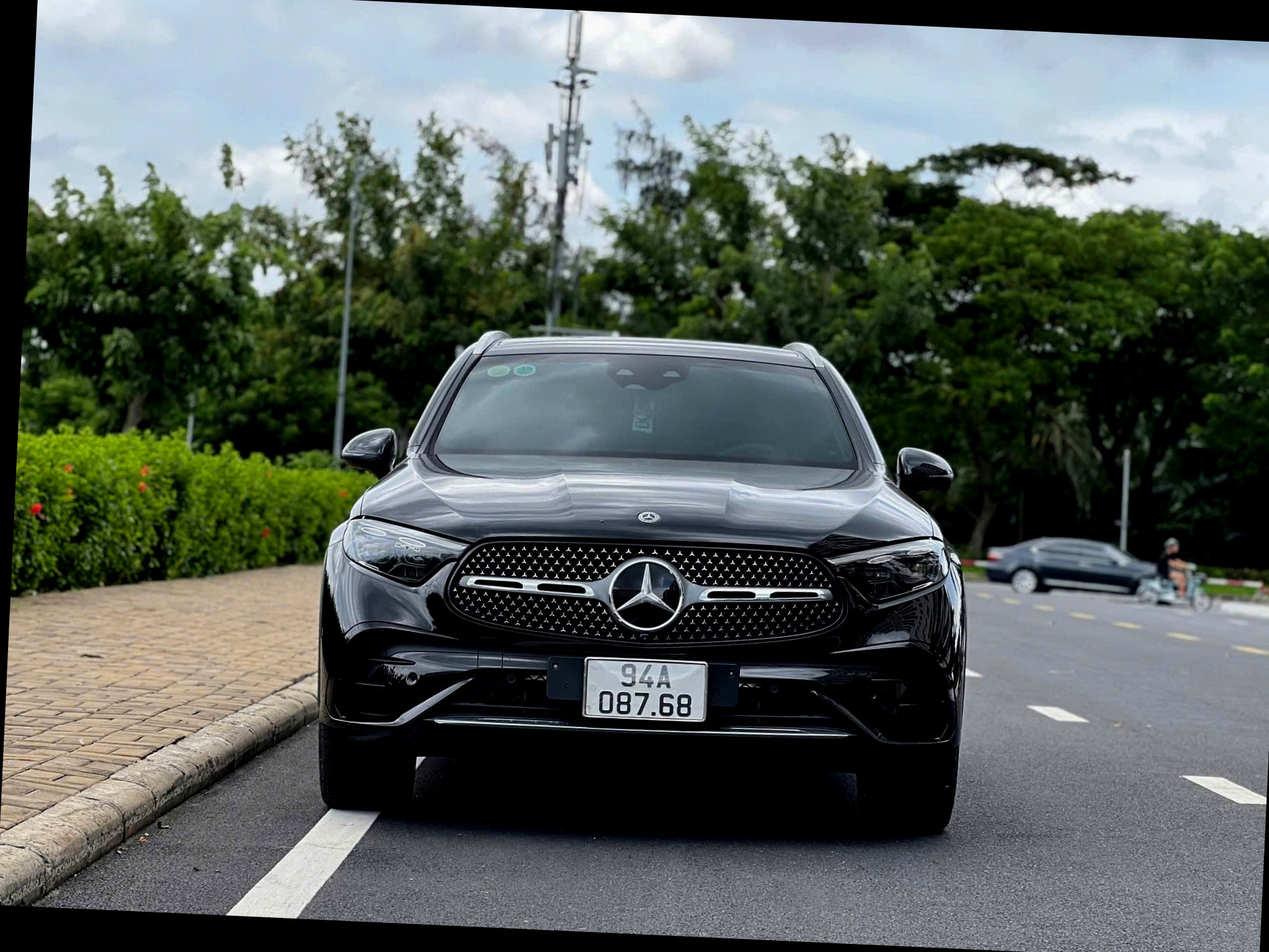Bien-so: (555, 641, 681, 713)
